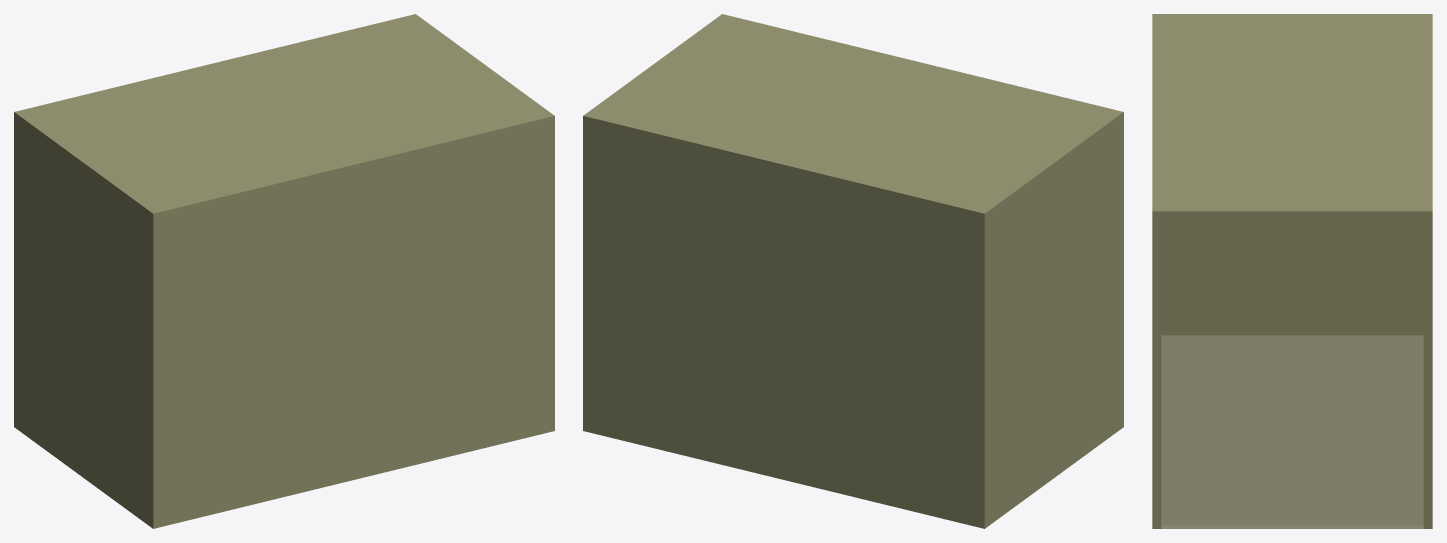
The model's file is TestGltf.dae.
3 views of the same model, side by side, from view 1: azimuth 30°, elevation 25°; view 2: azimuth 150°, elevation 25°; view 3: azimuth 270°, elevation 25° (orthographic).
Visible parts, largest first — view 1: {193A9D02-D385-465e-8A60-6B5622F57E0B}_Node, {35EDBFEE-85C4-489a-B2B5-C5E44547F53A}_Node, {60A58C67-6D72-4a64-B45B-14B936297B22}_Node, {60B13DF7-B257-4bb0-A07E-2B8D1660220D}_Node, {89899533-D8D0-462a-9805-9E365C462CF6}_Node; view 2: {60B13DF7-B257-4bb0-A07E-2B8D1660220D}_Node, {35EDBFEE-85C4-489a-B2B5-C5E44547F53A}_Node, {60A58C67-6D72-4a64-B45B-14B936297B22}_Node, {89899533-D8D0-462a-9805-9E365C462CF6}_Node, {193A9D02-D385-465e-8A60-6B5622F57E0B}_Node; view 3: {89899533-D8D0-462a-9805-9E365C462CF6}_Node, {35EDBFEE-85C4-489a-B2B5-C5E44547F53A}_Node, {60A58C67-6D72-4a64-B45B-14B936297B22}_Node, {193A9D02-D385-465e-8A60-6B5622F57E0B}_Node, {60B13DF7-B257-4bb0-A07E-2B8D1660220D}_Node.
Part boxes in pixels (left/top/right/bottom): {193A9D02-D385-465e-8A60-6B5622F57E0B}_Node: left=149, top=112, right=554, bottom=528; {35EDBFEE-85C4-489a-B2B5-C5E44547F53A}_Node: left=19, top=17, right=549, bottom=217; {60A58C67-6D72-4a64-B45B-14B936297B22}_Node: left=14, top=110, right=160, bottom=528; {60B13DF7-B257-4bb0-A07E-2B8D1660220D}_Node: left=14, top=14, right=419, bottom=429; {89899533-D8D0-462a-9805-9E365C462CF6}_Node: left=411, top=14, right=554, bottom=432; {60B13DF7-B257-4bb0-A07E-2B8D1660220D}_Node: left=583, top=112, right=988, bottom=528; {35EDBFEE-85C4-489a-B2B5-C5E44547F53A}_Node: left=588, top=17, right=1118, bottom=216; {60A58C67-6D72-4a64-B45B-14B936297B22}_Node: left=977, top=110, right=1123, bottom=527; {89899533-D8D0-462a-9805-9E365C462CF6}_Node: left=583, top=14, right=726, bottom=432; {193A9D02-D385-465e-8A60-6B5622F57E0B}_Node: left=718, top=14, right=1123, bottom=427; {89899533-D8D0-462a-9805-9E365C462CF6}_Node: left=1152, top=209, right=1432, bottom=528; {35EDBFEE-85C4-489a-B2B5-C5E44547F53A}_Node: left=1161, top=14, right=1423, bottom=219; {60A58C67-6D72-4a64-B45B-14B936297B22}_Node: left=1152, top=14, right=1432, bottom=334; {193A9D02-D385-465e-8A60-6B5622F57E0B}_Node: left=1152, top=14, right=1161, bottom=528; {60B13DF7-B257-4bb0-A07E-2B8D1660220D}_Node: left=1423, top=14, right=1432, bottom=528.
Bounding box in the file's own units: 1 × 0.75 × 0.6.
